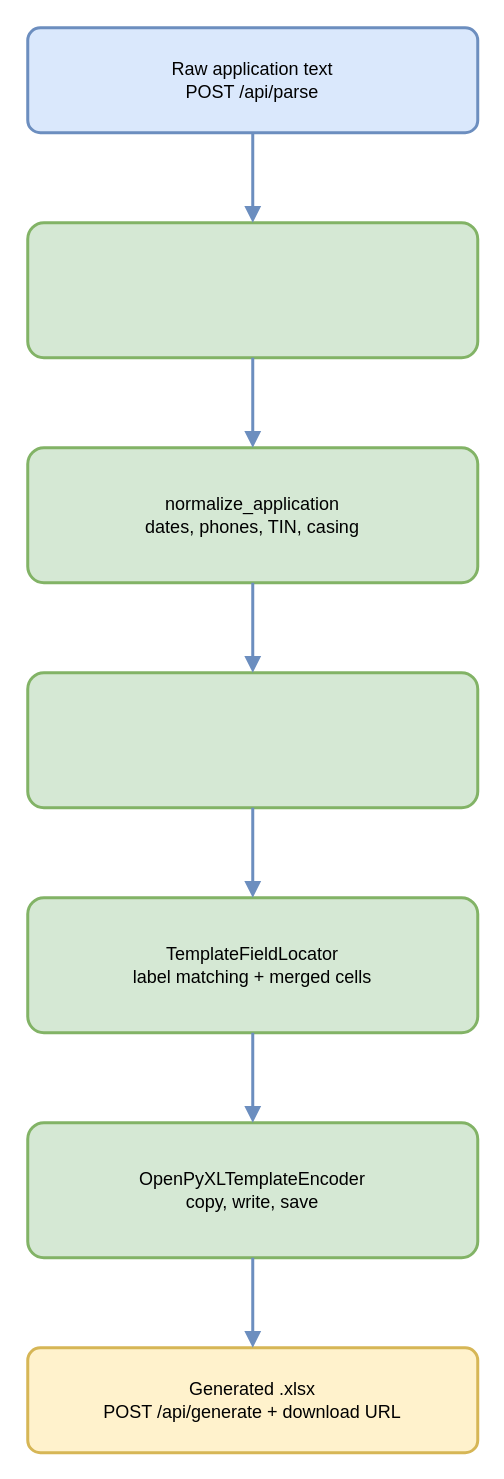
Some shapes in this 504 by 1479 pixel diagram are drawn without their labels. Each missing label, with the centre of its shape:
"parse_text section markers + aliases ParseResponse" belongs at [252,289].
"validate_application warnings / 422 issues" belongs at [252,739].
